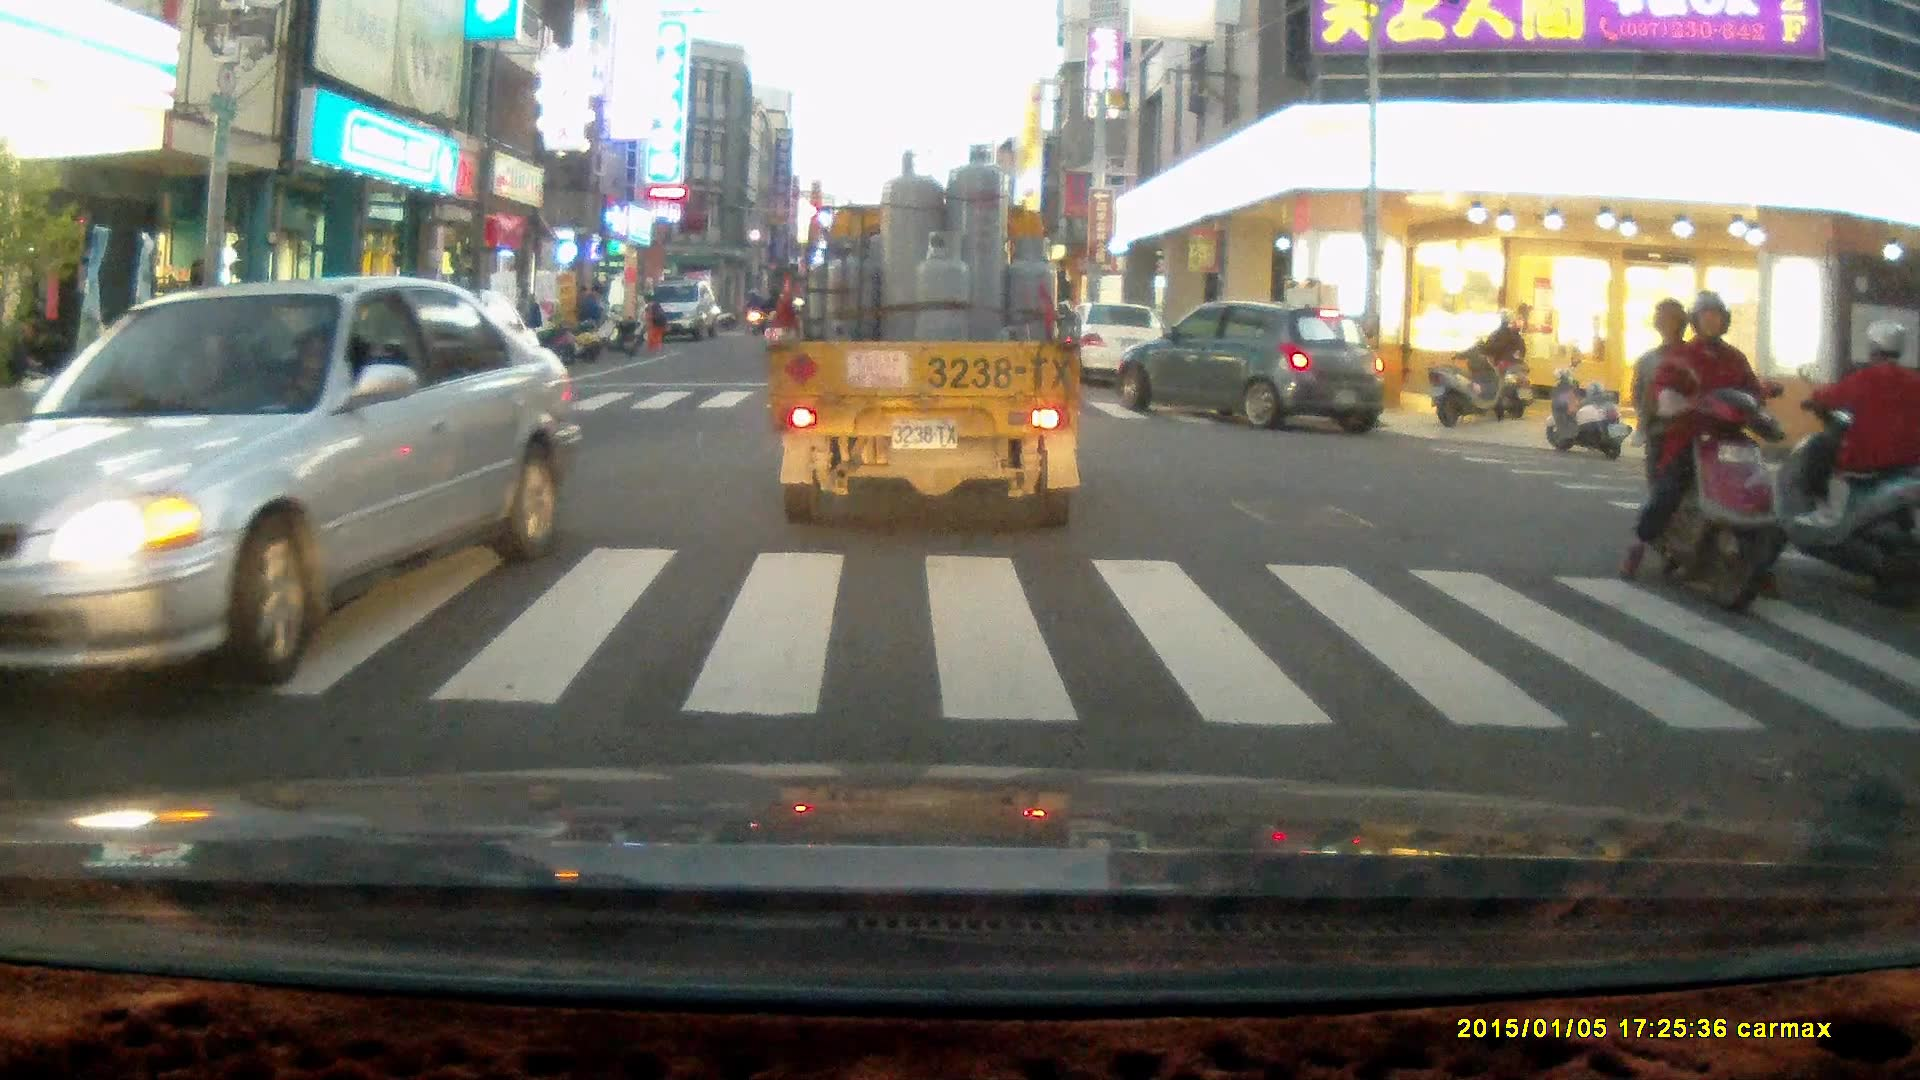pedestrian: (575, 283, 603, 348), (637, 292, 663, 352)
rider: (1614, 291, 1784, 619), (1749, 317, 1920, 608), (1473, 306, 1536, 423)
vehicle: (1, 277, 582, 708), (772, 144, 1084, 533), (1119, 302, 1388, 433), (1056, 303, 1179, 388), (636, 279, 715, 342)
